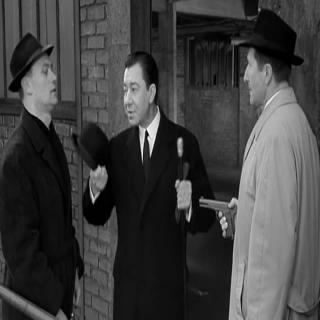gun: (196, 192, 238, 239)
